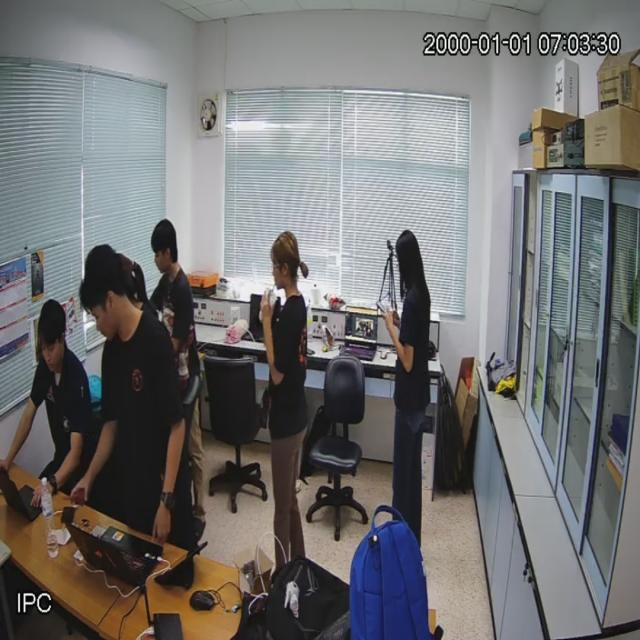normal: (78, 248, 177, 538), (259, 227, 307, 570), (153, 222, 207, 518), (384, 231, 429, 528), (15, 300, 85, 484)
